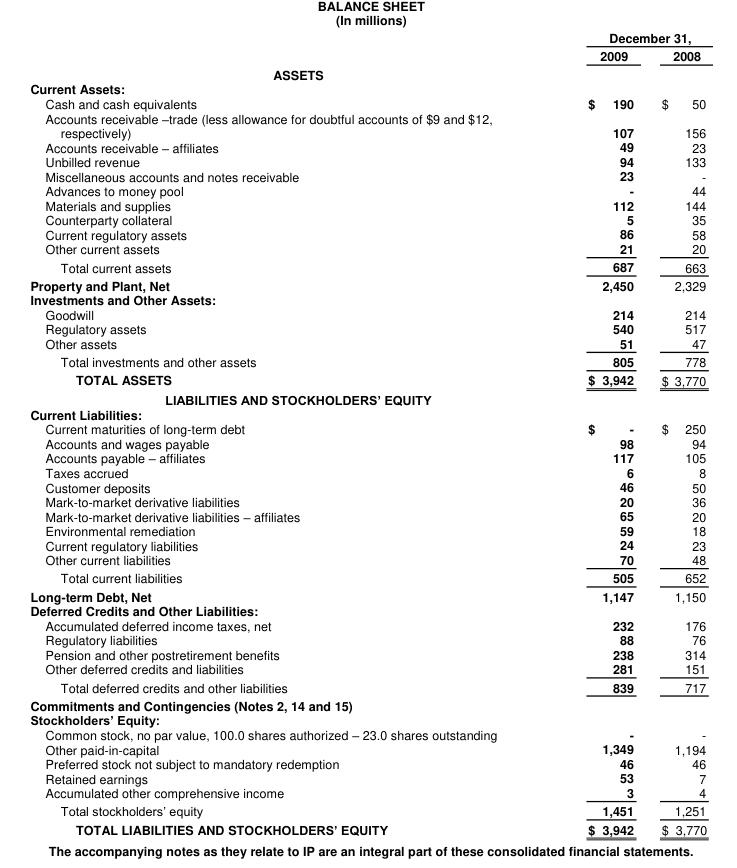table: (29, 28, 706, 837)
table column: (29, 28, 541, 837), (541, 28, 646, 837), (646, 28, 706, 837)
table column header: (29, 28, 706, 64)
table projected row header: (29, 695, 706, 713), (29, 64, 706, 81), (29, 390, 706, 406), (29, 406, 706, 421), (29, 81, 706, 95), (29, 292, 706, 306), (29, 603, 706, 617), (29, 713, 706, 726)
table row: (29, 110, 706, 139), (29, 370, 706, 390), (29, 28, 706, 46), (29, 46, 706, 64), (29, 257, 706, 275), (29, 352, 706, 370), (29, 568, 706, 586), (29, 677, 706, 695), (29, 695, 706, 713), (29, 801, 706, 819), (29, 819, 706, 837), (29, 64, 706, 81), (29, 240, 706, 257), (29, 275, 706, 292), (29, 335, 706, 352), (29, 551, 706, 568), (29, 586, 706, 603), (29, 784, 706, 801), (29, 390, 706, 406), (29, 661, 706, 677), (29, 95, 706, 110), (29, 153, 706, 168), (29, 182, 706, 197), (29, 211, 706, 226), (29, 306, 706, 321), (29, 406, 706, 421), (29, 435, 706, 450), (29, 464, 706, 479), (29, 493, 706, 508), (29, 522, 706, 537), (29, 617, 706, 632), (29, 646, 706, 661), (29, 726, 706, 741), (29, 755, 706, 770), (29, 81, 706, 95), (29, 139, 706, 153), (29, 168, 706, 182), (29, 197, 706, 211), (29, 226, 706, 240), (29, 292, 706, 306), (29, 321, 706, 335), (29, 421, 706, 435), (29, 450, 706, 464), (29, 479, 706, 493), (29, 508, 706, 522), (29, 537, 706, 551), (29, 603, 706, 617), (29, 632, 706, 646), (29, 741, 706, 755), (29, 770, 706, 784), (29, 713, 706, 726)
table spanning cell: (541, 28, 706, 46)
